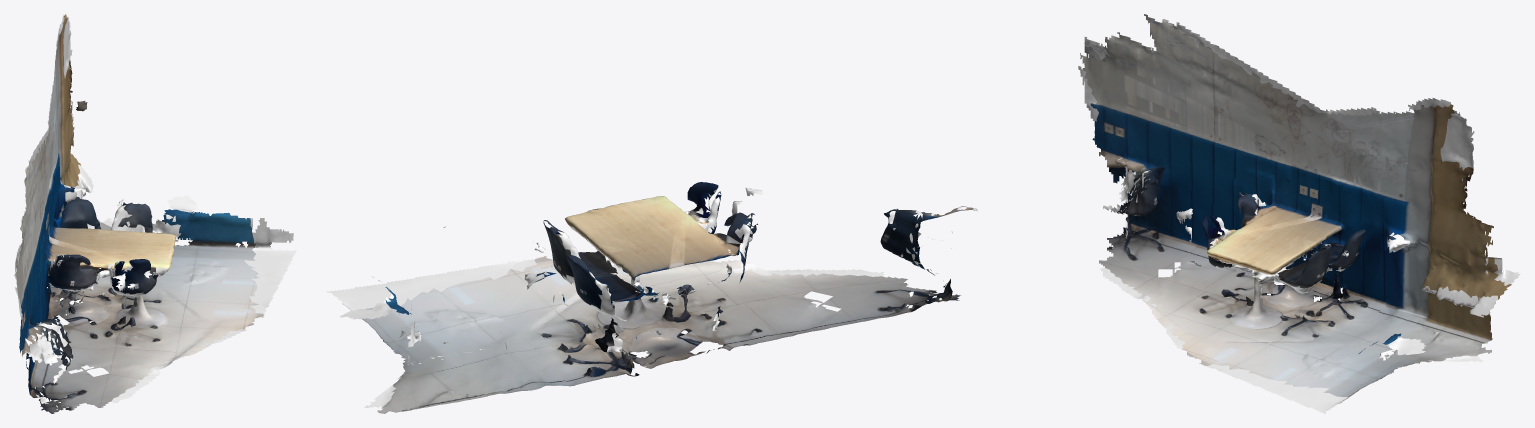
3 views of the same model, side by side, from view 1: azimuth 30°, elevation 25°; view 2: azimuth 150°, elevation 25°; view 3: azimuth 270°, elevation 25° (orthographic). The views are drawn at different scales.
Visible parts, largest first — view 1: texture_0, texture_1, object 1, texture_2; view 2: texture_0, texture_1, object 1, texture_2; view 3: texture_0, texture_1, object 1, texture_2.
Boxes of the visible parts, x1,y1,x2,y2 form: texture_0: [14, 131, 263, 410]; texture_1: [19, 14, 182, 413]; object 1: [15, 15, 297, 409]; texture_2: [36, 202, 136, 335]; texture_0: [362, 182, 937, 413]; texture_1: [410, 184, 973, 384]; object 1: [326, 187, 977, 407]; texture_2: [402, 213, 931, 378]; texture_0: [1080, 14, 1505, 397]; texture_1: [1092, 70, 1511, 342]; object 1: [1078, 19, 1520, 413]; texture_2: [1205, 181, 1424, 367].
Size of the model in its own units: 4.55 by 2.48 by 4.32.
Materials: 4 (3 with a texture image).
